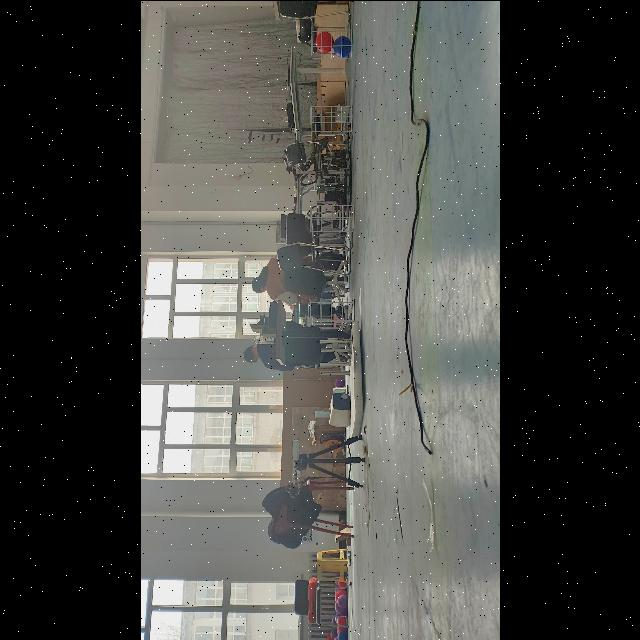B: (334, 33, 351, 57)
R: (315, 30, 333, 52)
S: (306, 199, 358, 235), (306, 100, 356, 136), (304, 295, 358, 327), (308, 26, 357, 60)
